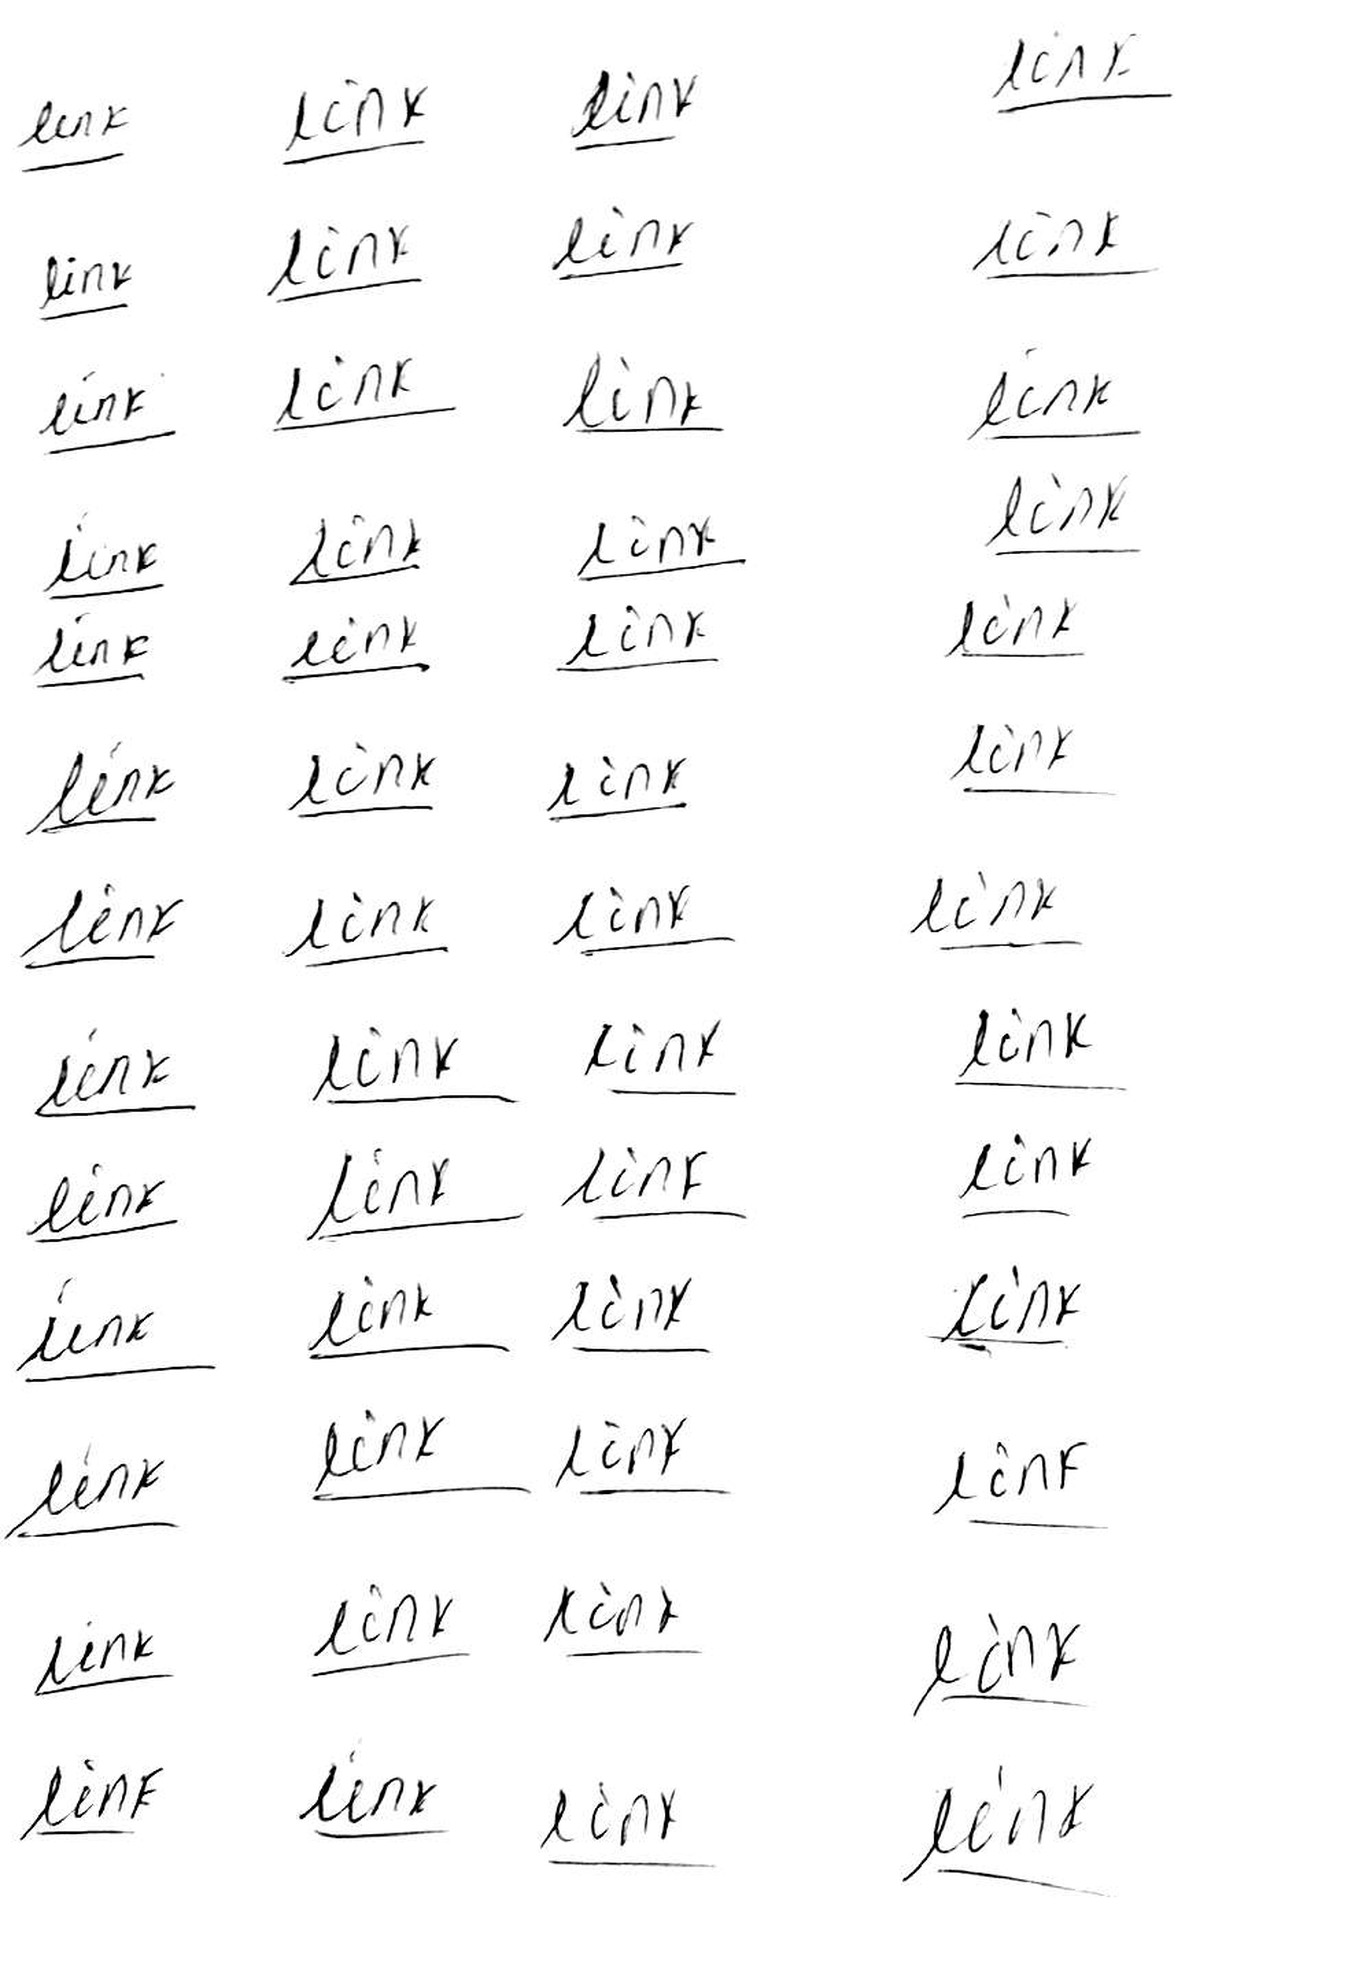Link: (907, 1609, 1080, 1718), (300, 1143, 464, 1244), (6, 1451, 171, 1545), (7, 885, 186, 971), (21, 746, 180, 841), (992, 28, 1156, 121), (962, 359, 1133, 447), (267, 349, 444, 434), (277, 72, 432, 169), (256, 216, 419, 307), (304, 1583, 461, 1677), (13, 1751, 163, 1847), (978, 468, 1132, 561), (966, 201, 1142, 282), (21, 1159, 182, 1247), (279, 889, 446, 973), (549, 1271, 711, 1356), (556, 354, 717, 439), (947, 1004, 1102, 1092), (547, 876, 711, 958), (541, 201, 699, 286), (292, 1753, 444, 1841), (306, 1026, 471, 1107), (282, 735, 441, 819), (573, 507, 746, 582), (934, 1259, 1080, 1347), (31, 1041, 191, 1122), (34, 368, 171, 456), (277, 609, 432, 686), (556, 603, 717, 676), (564, 67, 701, 151), (538, 747, 687, 823), (283, 512, 429, 589), (28, 1618, 163, 1699), (939, 592, 1080, 661), (942, 722, 1077, 794), (25, 624, 157, 697), (16, 97, 133, 179), (40, 530, 161, 604), (34, 249, 139, 327)
